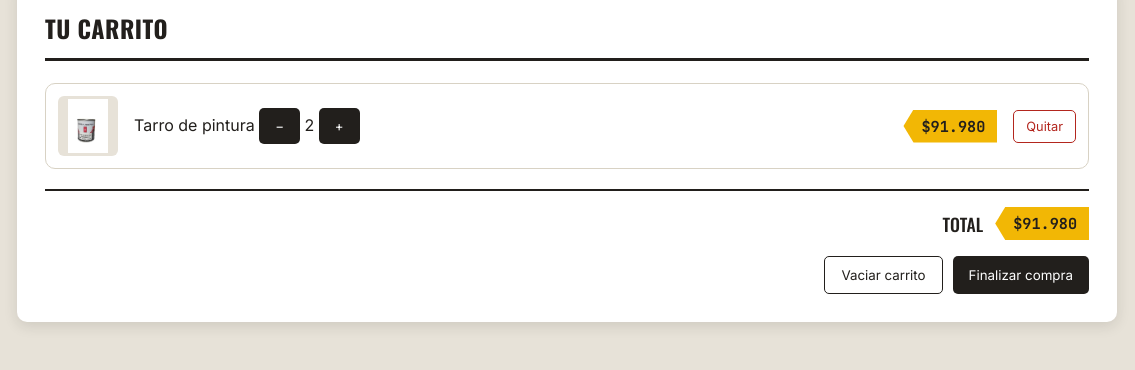
Vaciar carrito deja el carrito vacío y devuelve el stock
The image size is (1135, 370).
interaccion del usuario
Click the button "Vaciar carrito". click: [884, 275]
box: x1=824 y1=256 x2=943 y2=294
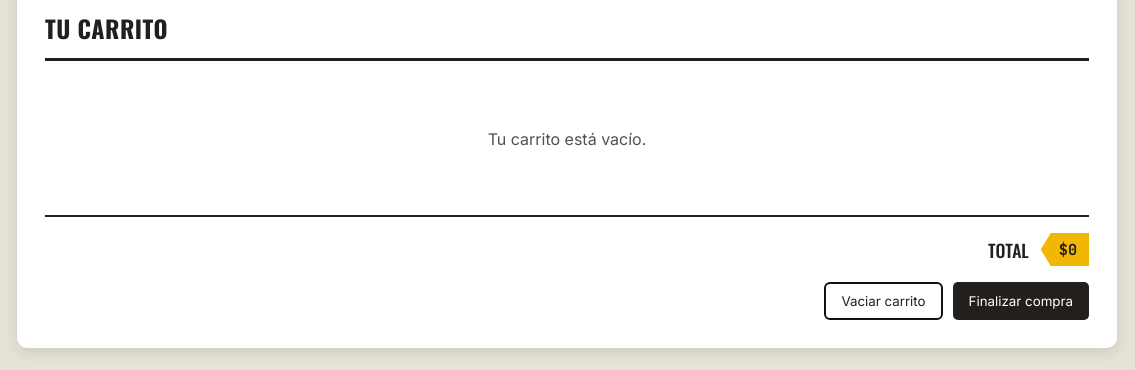
Expected: the text "Tu carrito está vacío." is shown, x1=488 y1=129 x2=646 y2=149
